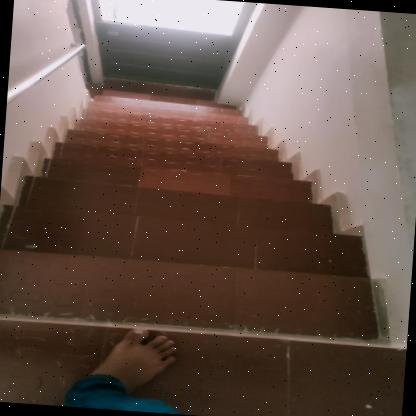stair: (10, 66, 389, 416)
